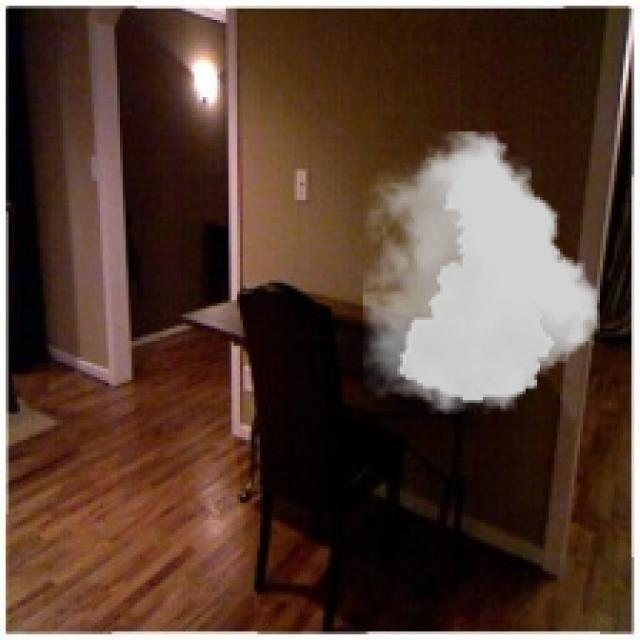Smoke: (363, 132, 600, 414)
